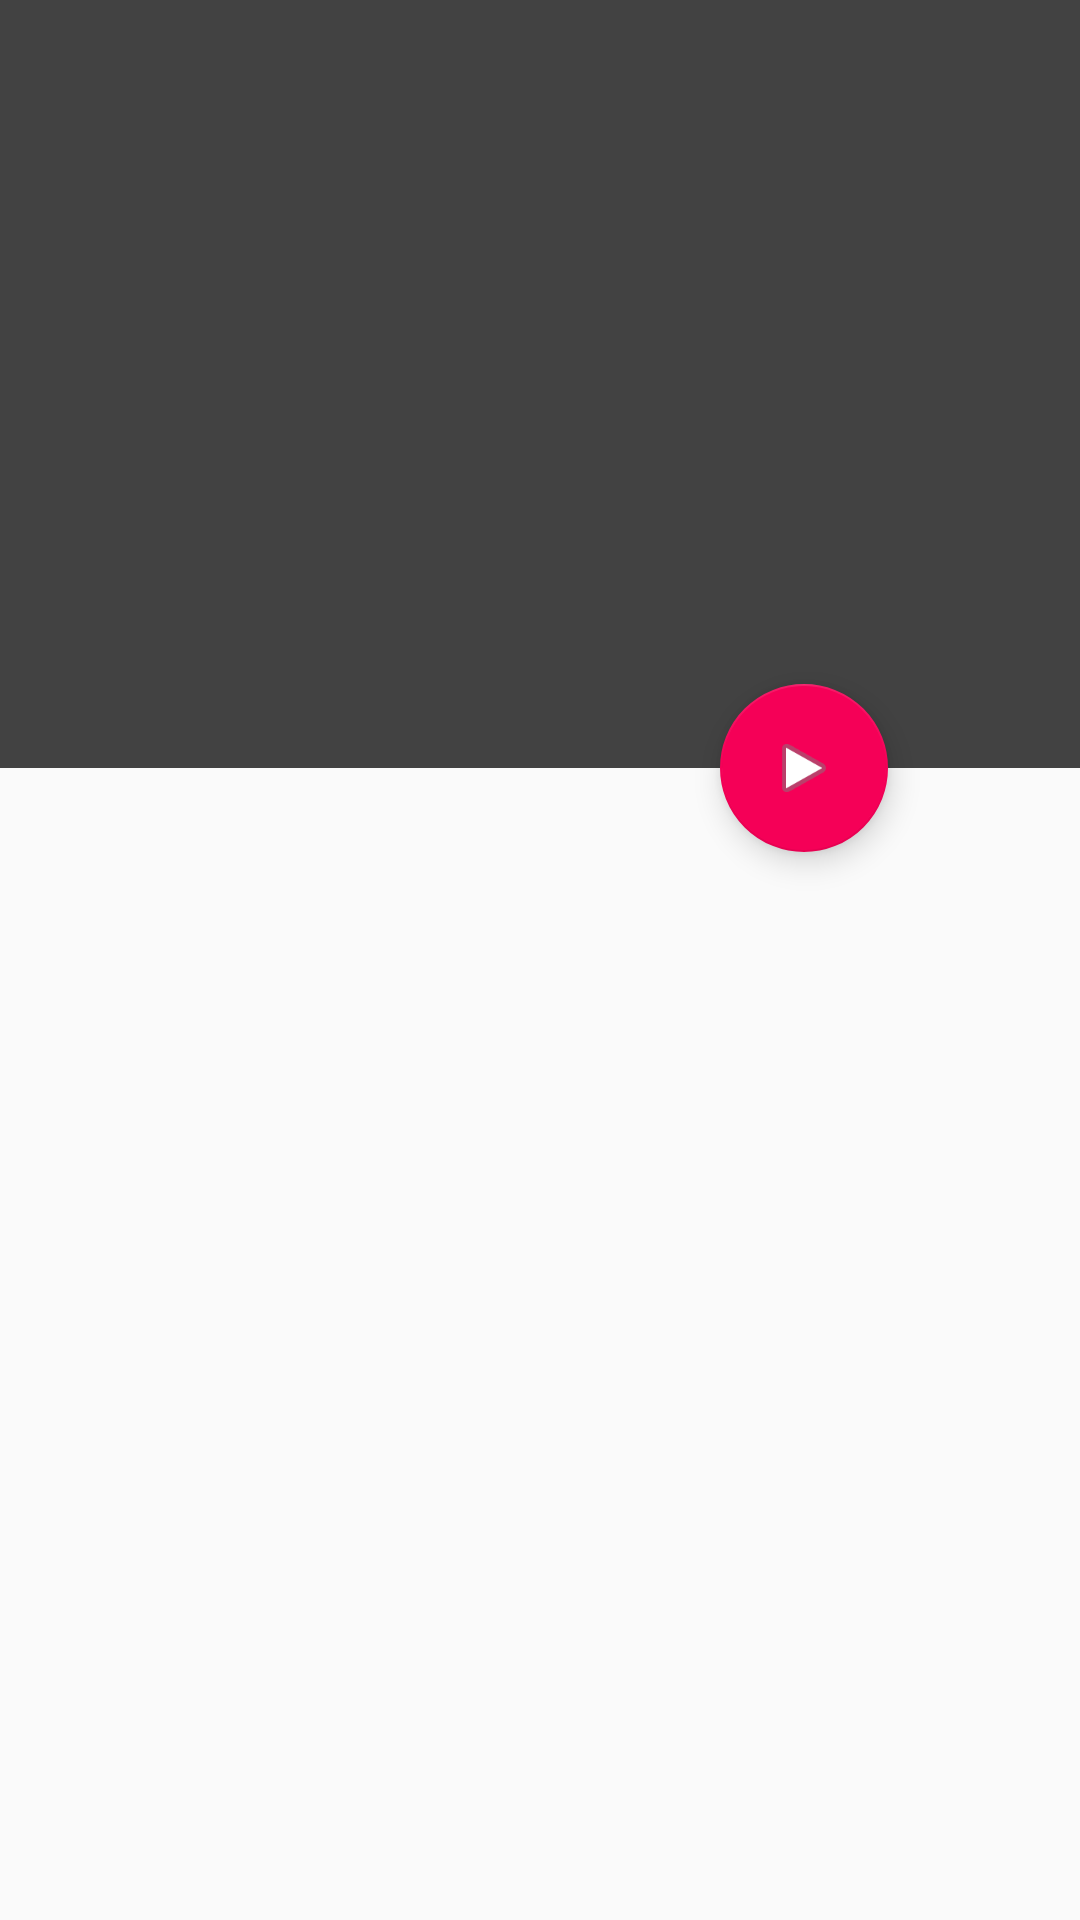

Icons on this 1080×1920 Android screen, each with the point to tap as (x=x, y=y):
play: (x=804, y=768)
